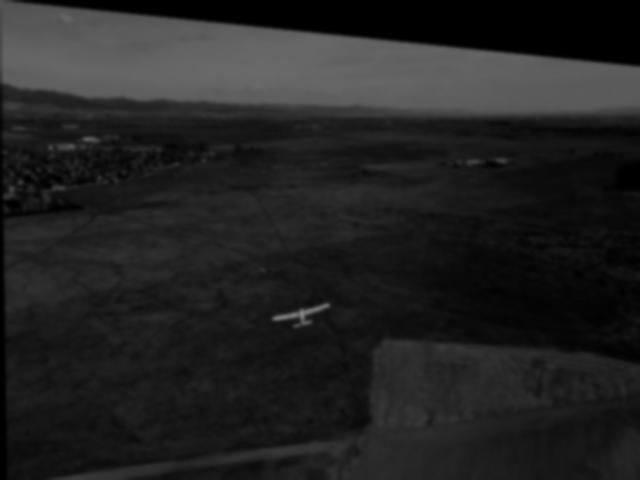hedef: (264, 275, 335, 339)
